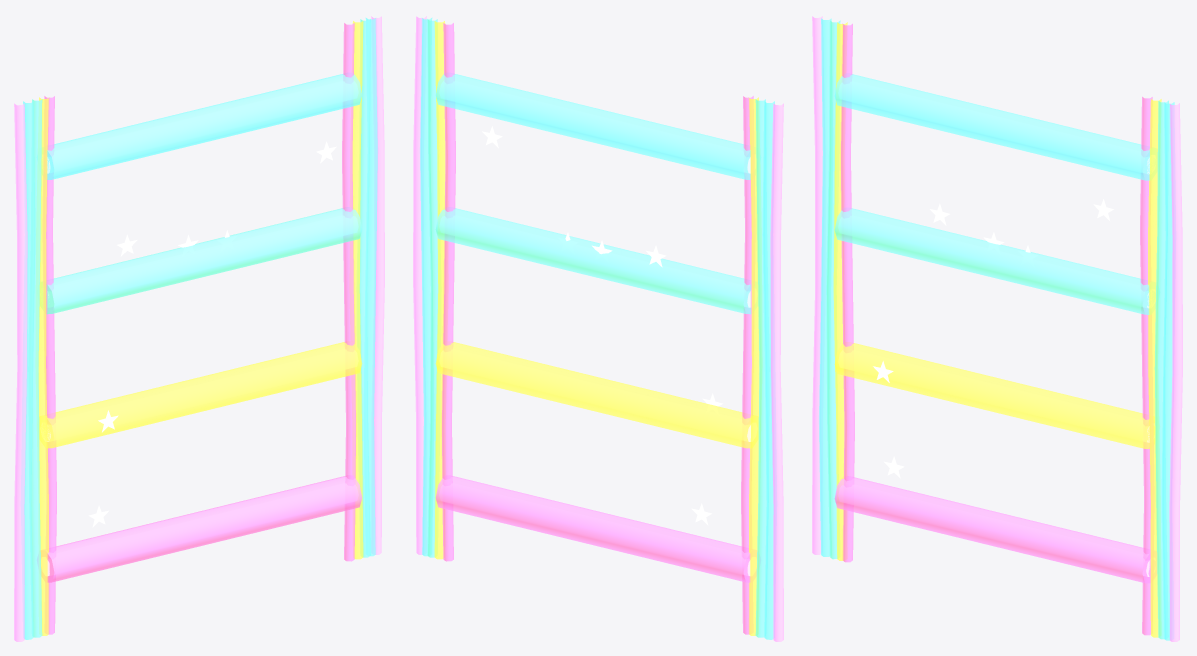
File: magic_ladder.glb
The picture shows the model from 3 angles, left to right: view 1: azimuth 30°, elevation 25°; view 2: azimuth 150°, elevation 25°; view 3: azimuth 330°, elevation 25°; orthographic projection.
Parts seen in each view (by area): view 1: magic_ladder; view 2: magic_ladder; view 3: magic_ladder.
Part boxes in pixels (x1,y1,x2,y2): magic_ladder: (14,16,384,641); magic_ladder: (413,16,783,641); magic_ladder: (812,16,1182,641).
Bounding box in the file's own units: 0.7176 × 1 × 0.076.
